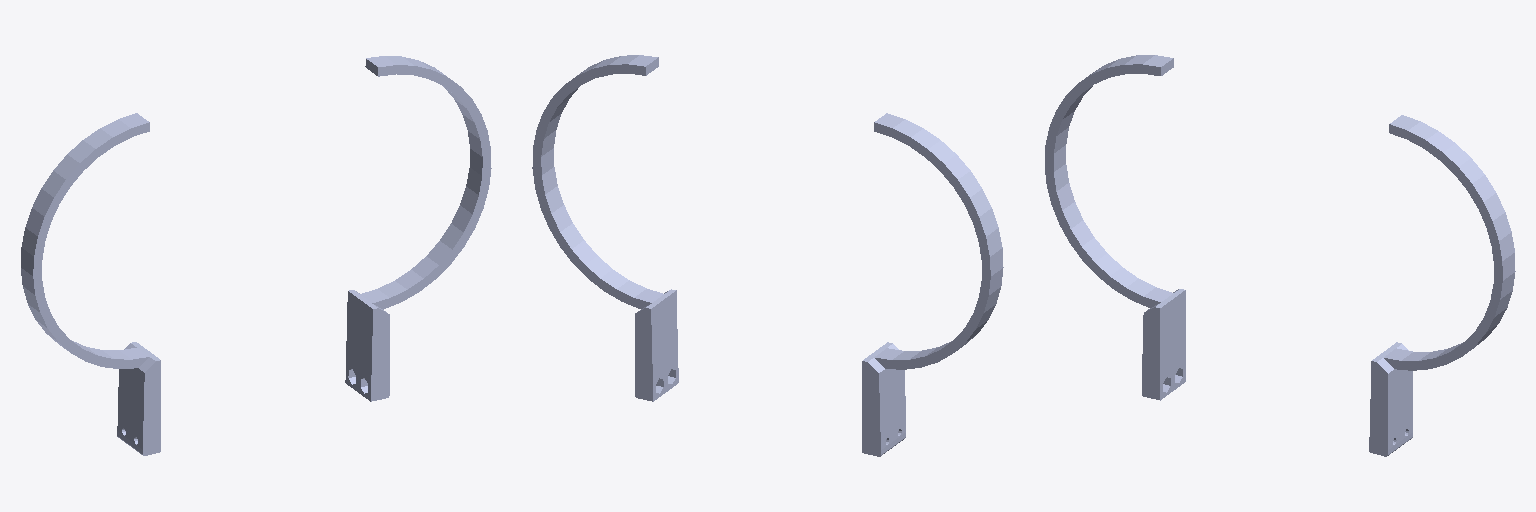
robot.urdf — ag95_grip_bowl:
<?xml version="1.0" encoding="utf-8"?>
<!-- This URDF was automatically created by SolidWorks to URDF Exporter! Originally created by [author] ([email redacted]) 
     Commit Version: 1.5.1-0-g916b5db  Build Version: 1.5.7152.31018
     For more information, please see http://wiki.ros.org/sw_urdf_exporter -->
<robot
  name="ag95_grip_bowl">
  <link
    name="ad95_grip_base_link">
    <inertial>
      <origin
        xyz="2.0713E-10 2.0278E-05 0.088235"
        rpy="0 0 0" />
      <mass
        value="0.11208" />
      <inertia
        ixx="2.9697E-05"
        ixy="-3.6572E-13"
        ixz="2.9903E-15"
        iyy="3.7674E-05"
        iyz="3.3862E-09"
        izz="4.0516E-05" />
    </inertial>
    <visual>
      <origin
        xyz="0 0 0"
        rpy="0 0 0" />
      <geometry>
        <mesh
          filename="package://ag95_grip_bowl/meshes/ad95_grip_base_link.STL" />
      </geometry>
      <material
        name="">
        <color
          rgba="1 1 1 1" />
      </material>
    </visual>
    <collision>
      <origin
        xyz="0 0 0"
        rpy="0 0 0" />
      <geometry>
        <mesh
          filename="package://ag95_grip_bowl/meshes/ad95_grip_base_link.STL" />
      </geometry>
    </collision>
  </link>
  <link
    name="grip_tip_link">
    <inertial>
      <origin
        xyz="0.0012187 -8.2438E-06 -0.032093"
        rpy="0 0 0" />
      <mass
        value="0.024379" />
      <inertia
        ixx="4.7514E-05"
        ixy="8.2047E-13"
        ixz="5.0873E-07"
        iyy="5.6442E-05"
        iyz="-5.2306E-14"
        izz="9.9339E-06" />
    </inertial>
    <visual>
      <origin
        xyz="0 0 0"
        rpy="0 0 0" />
      <geometry>
        <mesh
          filename="package://ag95_grip_bowl/meshes/grip_tip_link.STL" />
      </geometry>
      <material
        name="">
        <color
          rgba="0.79216 0.81961 0.93333 1" />
      </material>
    </visual>
    <collision>
      <origin
        xyz="0 0 0"
        rpy="0 0 0" />
      <geometry>
        <mesh
          filename="package://ag95_grip_bowl/meshes/grip_tip_link.STL" />
      </geometry>
    </collision>
  </link>
  <joint
    name="grip_tip_joint"
    type="prismatic">
    <origin
      xyz="-0.0011904 0 0.23817"
      rpy="0 0.027068 0" />
    <parent
      link="ad95_grip_base_link" />
    <child
      link="grip_tip_link" />
    <axis
      xyz="0.99963 0 0.027064" />
    <limit
      lower="0"
      upper="0"
      effort="0"
      velocity="0" />
  </joint>
</robot>

--- Render facts (derived) ---
The picture shows the robot from 3 angles, left to right: view 1: azimuth 30°, elevation 25°; view 2: azimuth 150°, elevation 25°; view 3: azimuth 330°, elevation 25°; orthographic projection.
Robot: ag95_grip_bowl — 2 links, 1 joints (1 prismatic); root link ad95_grip_base_link; default pose: all joints at 0.
Visible links, largest first — view 1: grip_tip_link; view 2: grip_tip_link; view 3: grip_tip_link.
Link boxes in pixels (box(x1,y1,x2,y2)): grip_tip_link: box(21, 56, 491, 455); grip_tip_link: box(532, 55, 1003, 456); grip_tip_link: box(1045, 55, 1515, 456).
Bounding box of the posed robot: 0.2083 × 0.0204 × 0.1423 m (x, y, z).
Meshes: 2 distinct files referenced, 1 mesh visuals loaded (1 binary STL); not drawn: 1 (reference not matched to a file when rendering).
